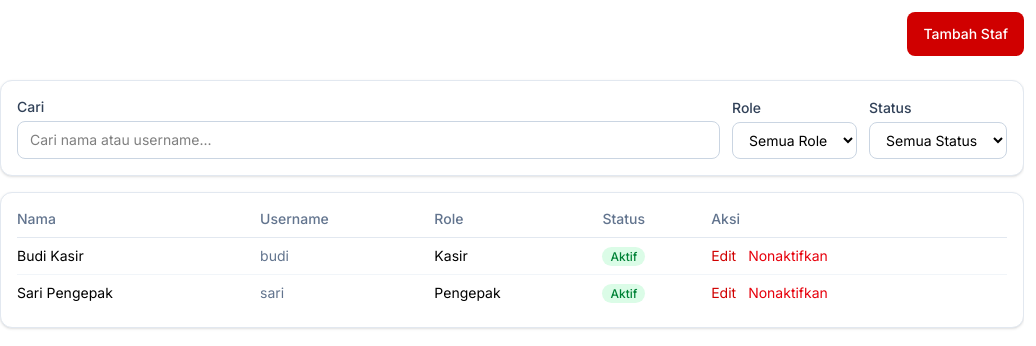
Scenario: StaffPage › search bar -- filter berdasarkan nama atau username
Expected: the text "Budi Kasir" is shown, [17,238,260,274]
Expected: the text "Sari Pengepak" is shown, [17,274,260,311]
Step 1. Type "sari" into the field labelled "Cari" → [368, 140], box [17,121,720,159]
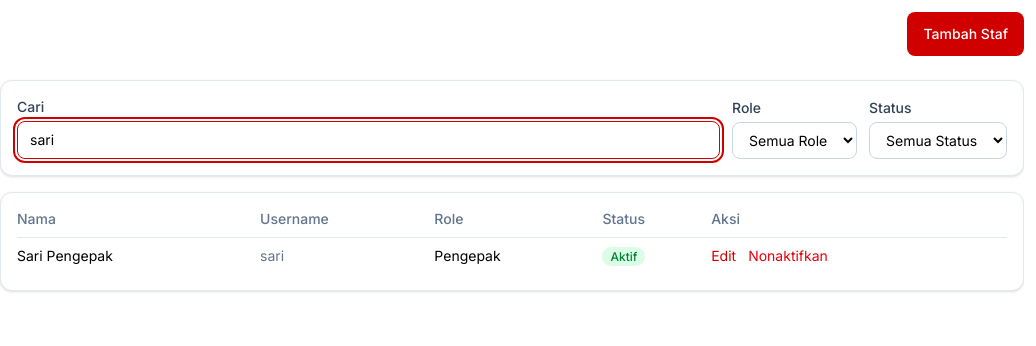
Expected: the text "Sari Pengepak" is shown, [17,238,260,274]
Result: the text "Budi Kasir" is gone
